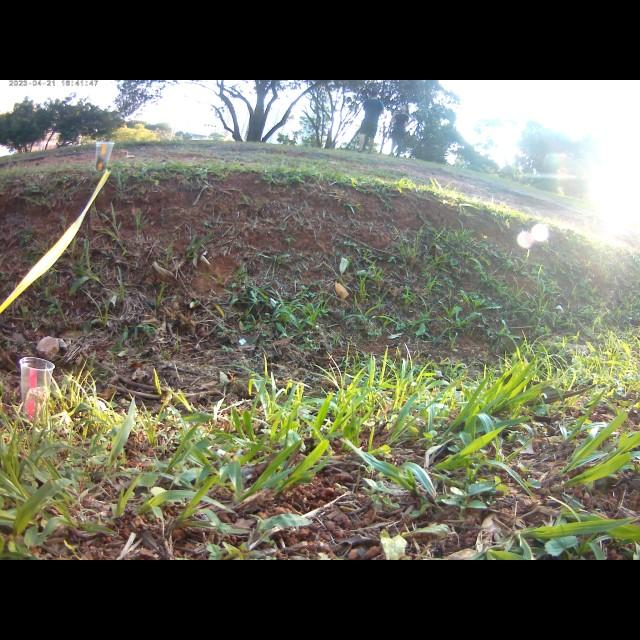ravina: (9, 184, 530, 381)
